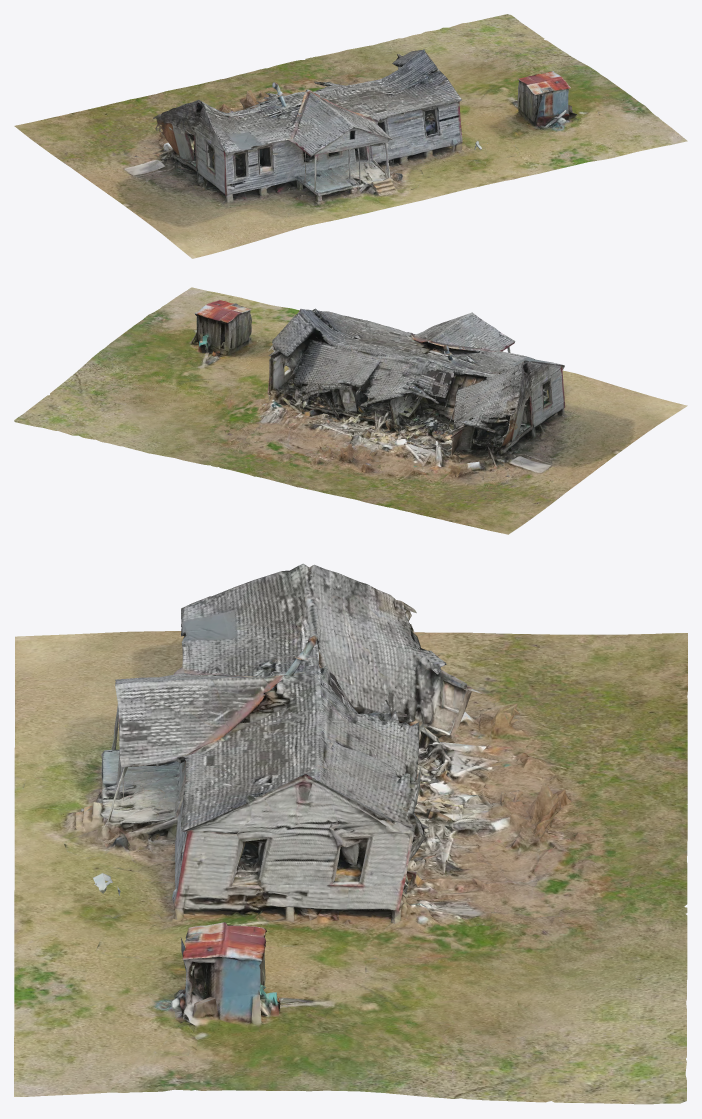
Rendered from house_f.glb.
The picture shows the model from 3 angles, top to bottom: view 1: azimuth 30°, elevation 25°; view 2: azimuth 150°, elevation 25°; view 3: azimuth 270°, elevation 25°; orthographic projection. The views are drawn at different scales.
Visible parts, largest first — view 1: prefab; view 2: prefab; view 3: prefab.
Part boxes in pixels (left/top/right/bottom): prefab: left=14, top=14, right=687, bottom=258; prefab: left=14, top=287, right=687, bottom=534; prefab: left=14, top=563, right=687, bottom=1104.
Bounding box in the file's own units: 39.06 × 6.91 × 24.43.
Materials: 1 (1 with a texture image).
